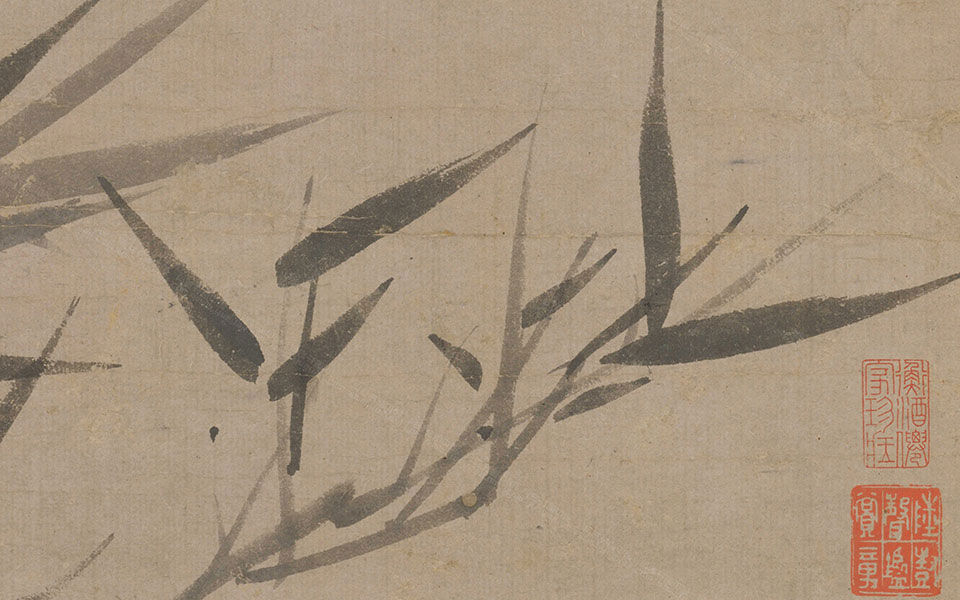bamboo: (92, 191, 836, 529)
